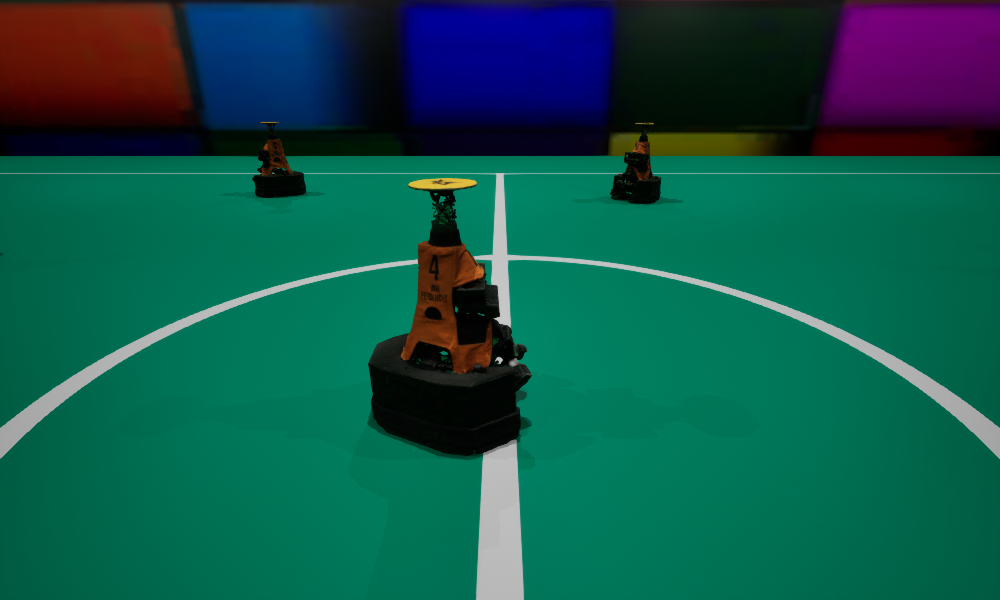o: (368, 178, 531, 455), (610, 123, 661, 202), (252, 122, 305, 197)
